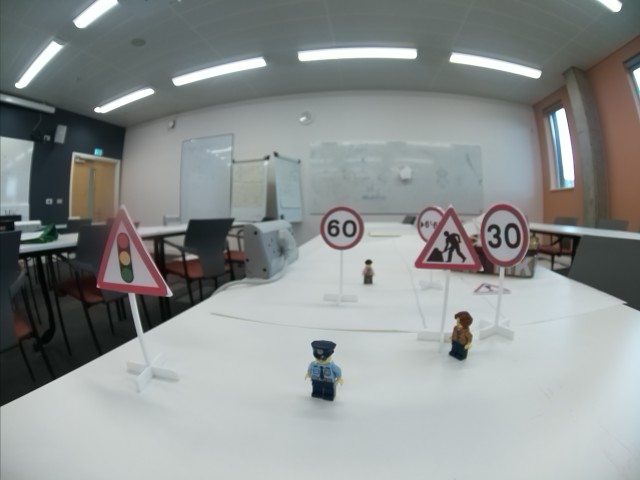30mph: (481, 203, 530, 269)
60mph: (320, 205, 363, 249)
6ft6: (415, 206, 445, 243)
Lego Man: (303, 336, 347, 401), (447, 311, 477, 359), (362, 260, 376, 283)
Roadworks: (415, 206, 480, 272)
Traffic lights: (94, 209, 173, 295)
